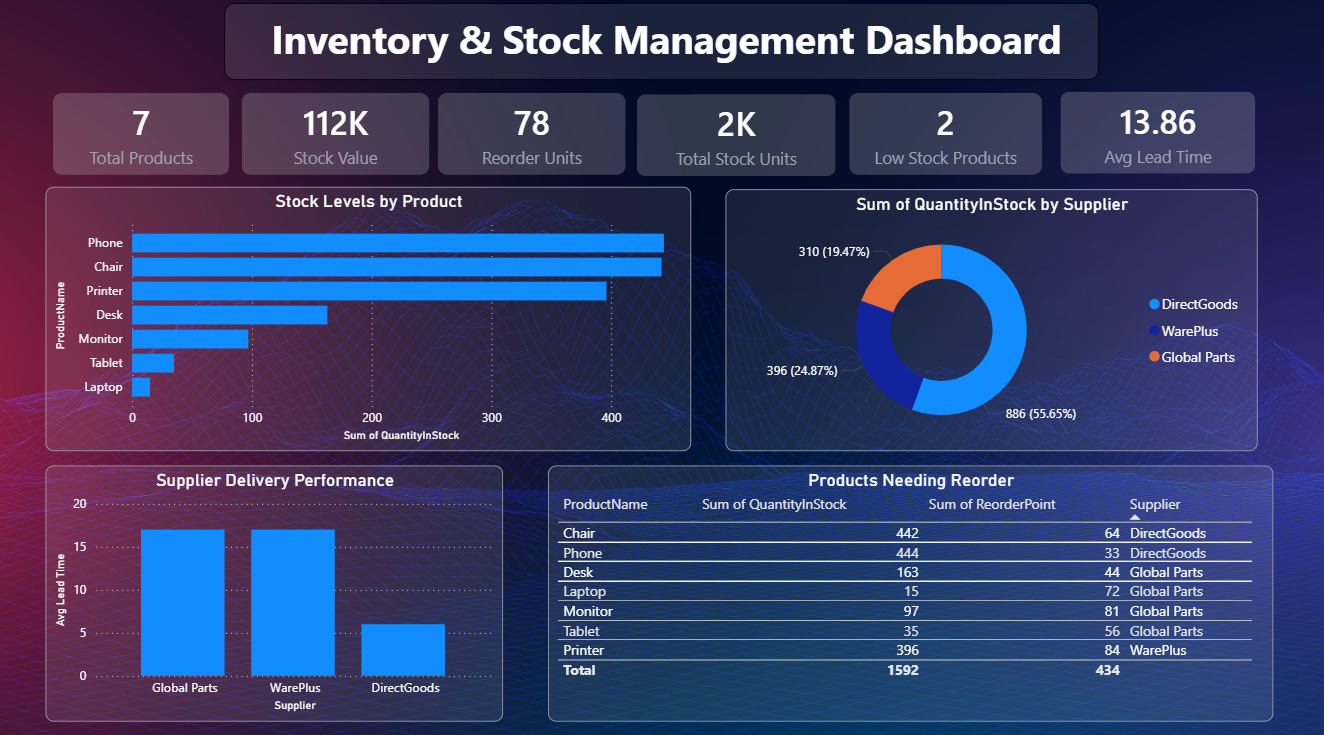

The page's visual inventory and layout, read from the dashboard file:
{"tool":"powerbi","page":{"name":" Inventory & Stock Management Dashboard","canvas":[1280,720],"ordinal":1},"visuals":[{"type":"cardVisual","fields":{"Data":["Measures (2).Total Products"]},"box":[35.7,79.6,204.5,113.9],"z":0},{"type":"cardVisual","fields":{"Data":["Measures (2).Total Stock Units"]},"box":[599.7,81,226.4,113.9],"z":1000},{"type":"cardVisual","fields":{"Data":["Measures (2).Low Stock Products"]},"box":[804.1,79.6,220.9,113.9],"z":2000},{"type":"cardVisual","fields":{"Data":["Measures (2).Avg Lead Time"]},"box":[1008.6,78.2,222.3,113.9],"z":3000},{"type":"clusteredBarChart","title":"Stock Levels by Product","fields":{"Y":["Sum(Dim_Inventory .QuantityInStock)"],"Category":["Dim_Inventory .ProductName"]},"box":[45.3,186.6,623,255.2],"z":4000},{"type":"clusteredColumnChart","title":"Supplier Delivery Performance","fields":{"Category":["Dim_Inventory .Supplier"],"Y":["Measures (2).Avg Lead Time"]},"box":[45.3,455.6,441.9,247],"z":5000},{"type":"donutChart","fields":{"Y":["Sum(Dim_Inventory .QuantityInStock)"],"Category":["Dim_Inventory .Supplier"]},"box":[702.6,189.4,513.2,252.5],"z":6000},{"type":"tableEx","title":"Products Needing Reorder","fields":{"Values":["Dim_Inventory .ProductName","Sum(Dim_Inventory .QuantityInStock)","Sum(Dim_Inventory .ReorderPoint)","Dim_Inventory .Supplier"]},"box":[531,455.6,699.8,247],"z":7000},{"type":"cardVisual","fields":{"Data":["Measures (2).Reorder Units"]},"box":[407.5,79.6,215.4,113.9],"z":8000},{"type":"textbox","box":[218.2,9.6,843.9,74.1],"z":9000},{"type":"cardVisual","fields":{"Data":["Measures (2).Stock Value"]},"box":[218.2,79.6,215.4,113.9],"z":10000}]}

Visuals, with their boxes in screenshot pixels (x1, y1, x2, y2), scaled from the page's 1280x720 canvas onto the 1324x735 screenshot:
cardVisual - Measures (2).Total Products: select_region(37, 81, 248, 198)
cardVisual - Measures (2).Total Stock Units: select_region(620, 83, 854, 199)
cardVisual - Measures (2).Low Stock Products: select_region(832, 81, 1060, 198)
cardVisual - Measures (2).Avg Lead Time: select_region(1043, 80, 1273, 196)
"Stock Levels by Product" clusteredBarChart: select_region(47, 190, 691, 451)
"Supplier Delivery Performance" clusteredColumnChart: select_region(47, 465, 504, 717)
donutChart - Sum(Dim_Inventory .QuantityInStock) x Dim_Inventory .Supplier: select_region(727, 193, 1258, 451)
"Products Needing Reorder" tableEx: select_region(549, 465, 1273, 717)
cardVisual - Measures (2).Reorder Units: select_region(422, 81, 644, 198)
textbox: select_region(226, 10, 1099, 85)
cardVisual - Measures (2).Stock Value: select_region(226, 81, 449, 198)
